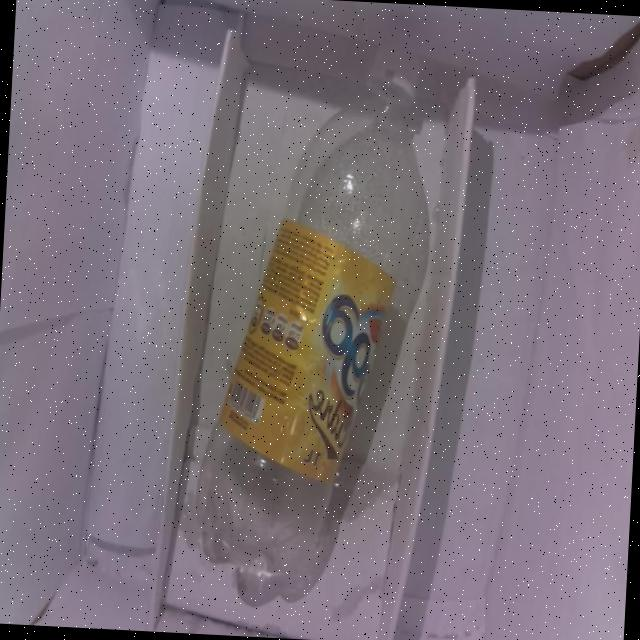bottle: (188, 19, 446, 612)
label: (214, 260, 411, 460)
